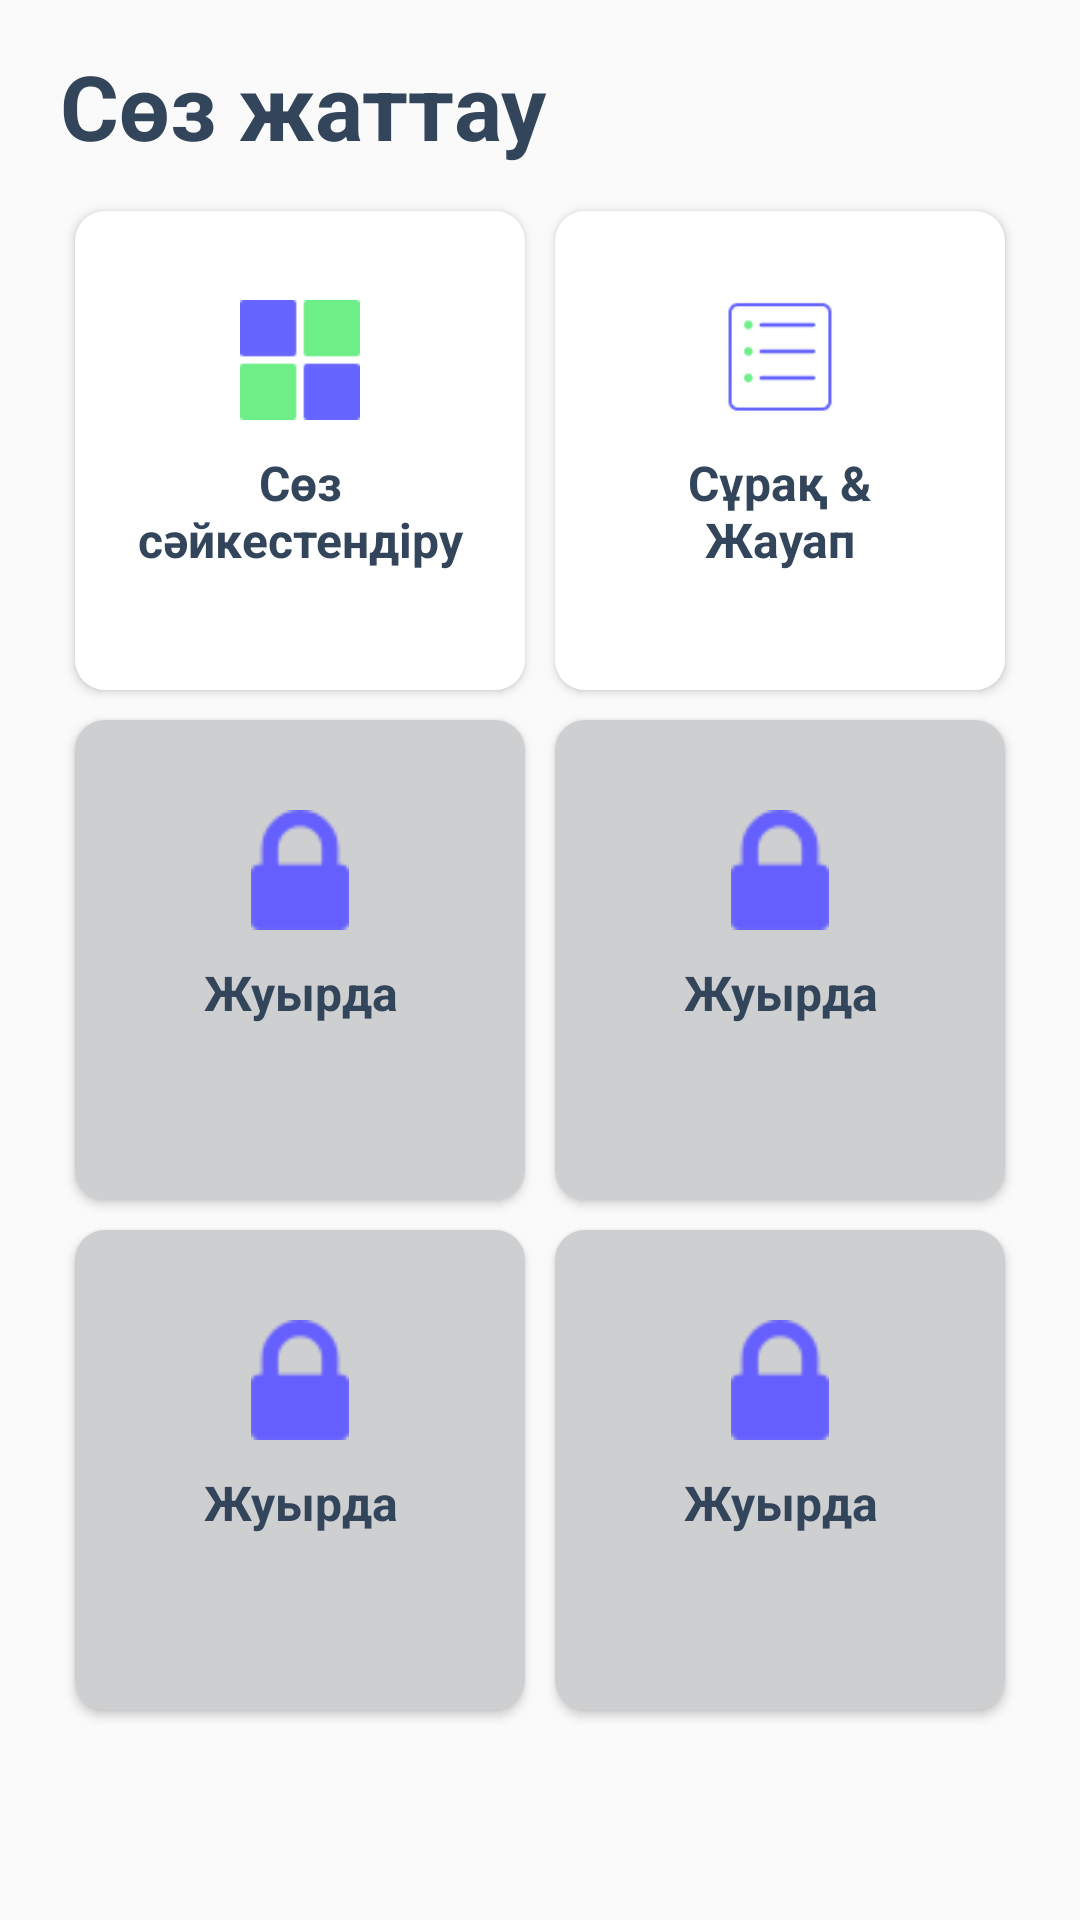

Screen size 1080w x 1920h. Icon name, then its center in pixels as [x,y]:
match thumbnail: [300,360]
padlock: [300,870], [780,870], [300,1380], [780,1380]
qa thumbnail: [780,357]
